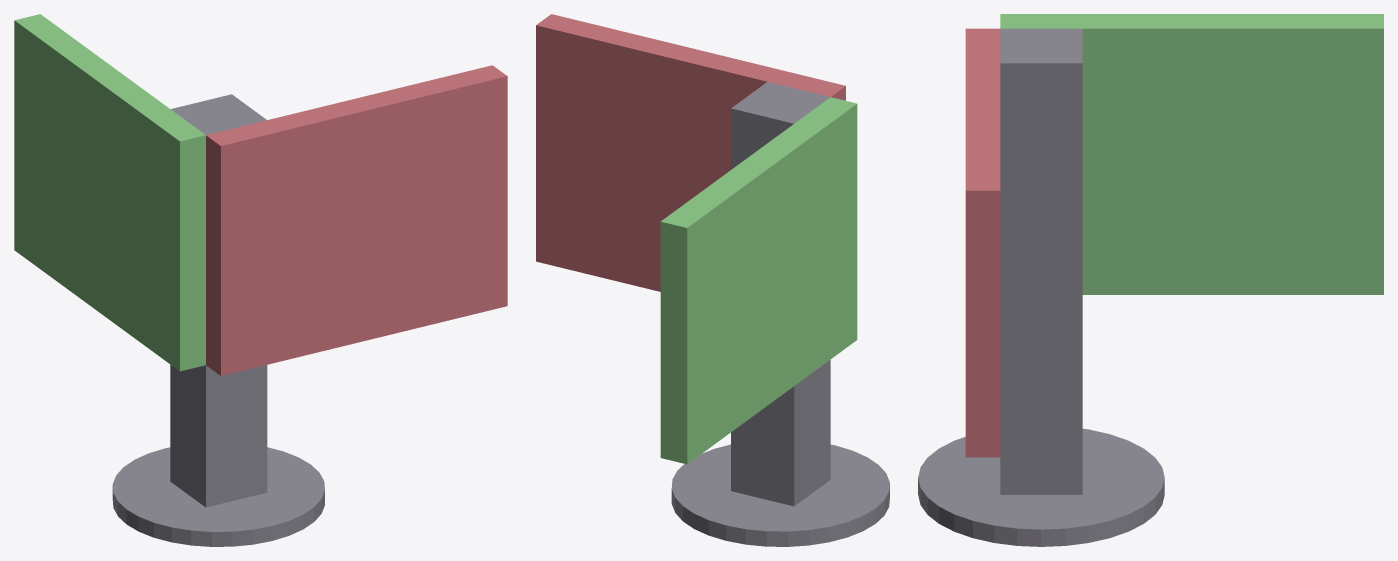
File: calibration_tool.dae
The picture shows the model from 3 angles, left to right: view 1: azimuth 30°, elevation 25°; view 2: azimuth 150°, elevation 25°; view 3: azimuth 270°, elevation 25°; orthographic projection. The views are drawn at different scales.
Visible parts, largest first — view 1: Cylinder; view 2: Cylinder; view 3: Cylinder.
Boxes of the visible parts, x1,y1,x2,y2 form: Cylinder: [14, 14, 507, 546]; Cylinder: [536, 14, 889, 546]; Cylinder: [918, 14, 1383, 546].
Size of the model in its own units: 255 by 255 by 271.
